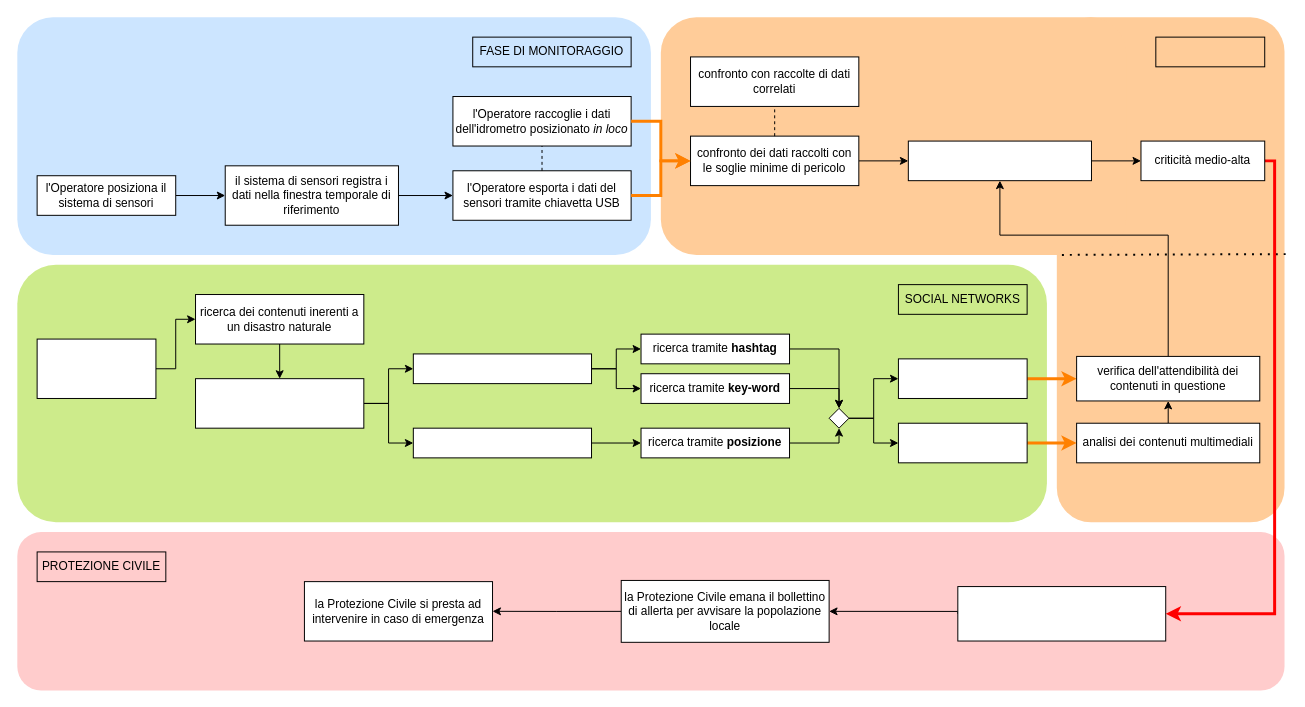
The diagram is 1305 pixels wide and 707 high, and some of its shapes have lost their labels. Here are the shapes that lost their labels. From the top down, the centre of each, then its label:
At pixel 1210 51: "ANALISI DEI DATI".
At pixel 999 160: "stima della criticità dell'evento".
At pixel 96 368: "l'Utente pubblica un post o un contenuto multimediale".
At pixel 502 368: "geo-localizzazione non presente".
At pixel 962 378: "contenuti multimediali non presenti".
At pixel 279 403: "verifica dell'affidabilità dell'Utente in questione".
At pixel 502 442: "geo-localizzazione presente".
At pixel 962 442: "contenuti multimediali presenti".
At pixel 1061 613: "la Protezione Civile viene allertata di un probabile disastro naturale in atto".
